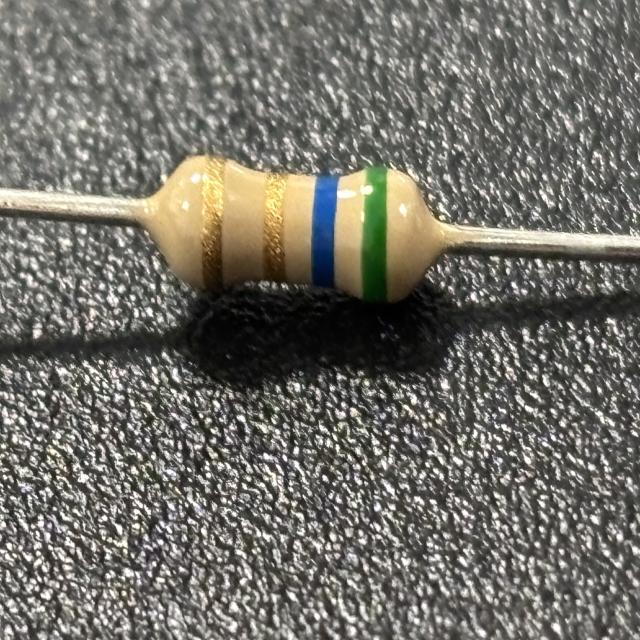resistor: (172, 150, 409, 309)
